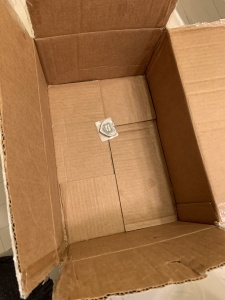innerbox: (39, 34, 206, 238)
outerbox: (2, 1, 225, 280)
product: (94, 117, 118, 140)
